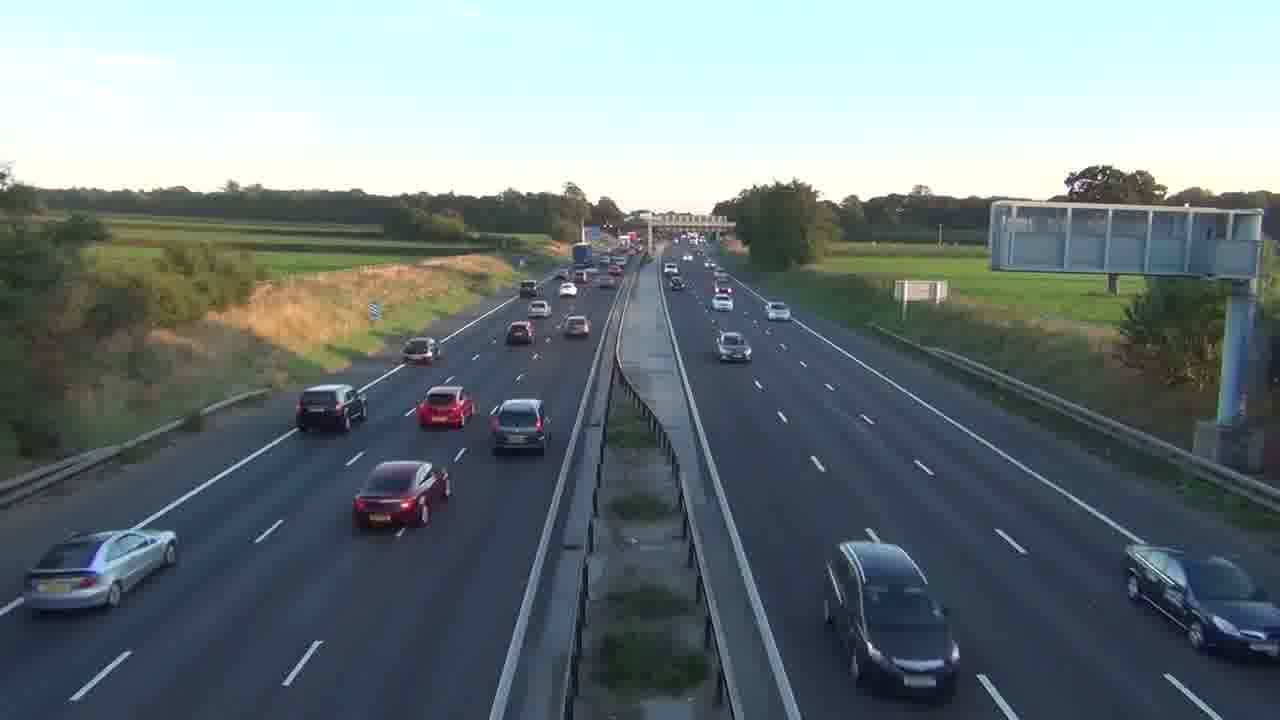car: (22, 525, 179, 616), (351, 460, 445, 531), (486, 397, 549, 455), (296, 382, 363, 432), (416, 385, 473, 430), (716, 330, 752, 364), (400, 336, 437, 365), (505, 320, 534, 346), (561, 314, 592, 338), (528, 300, 551, 317)
truck: (823, 532, 962, 703), (1123, 542, 1280, 662)
